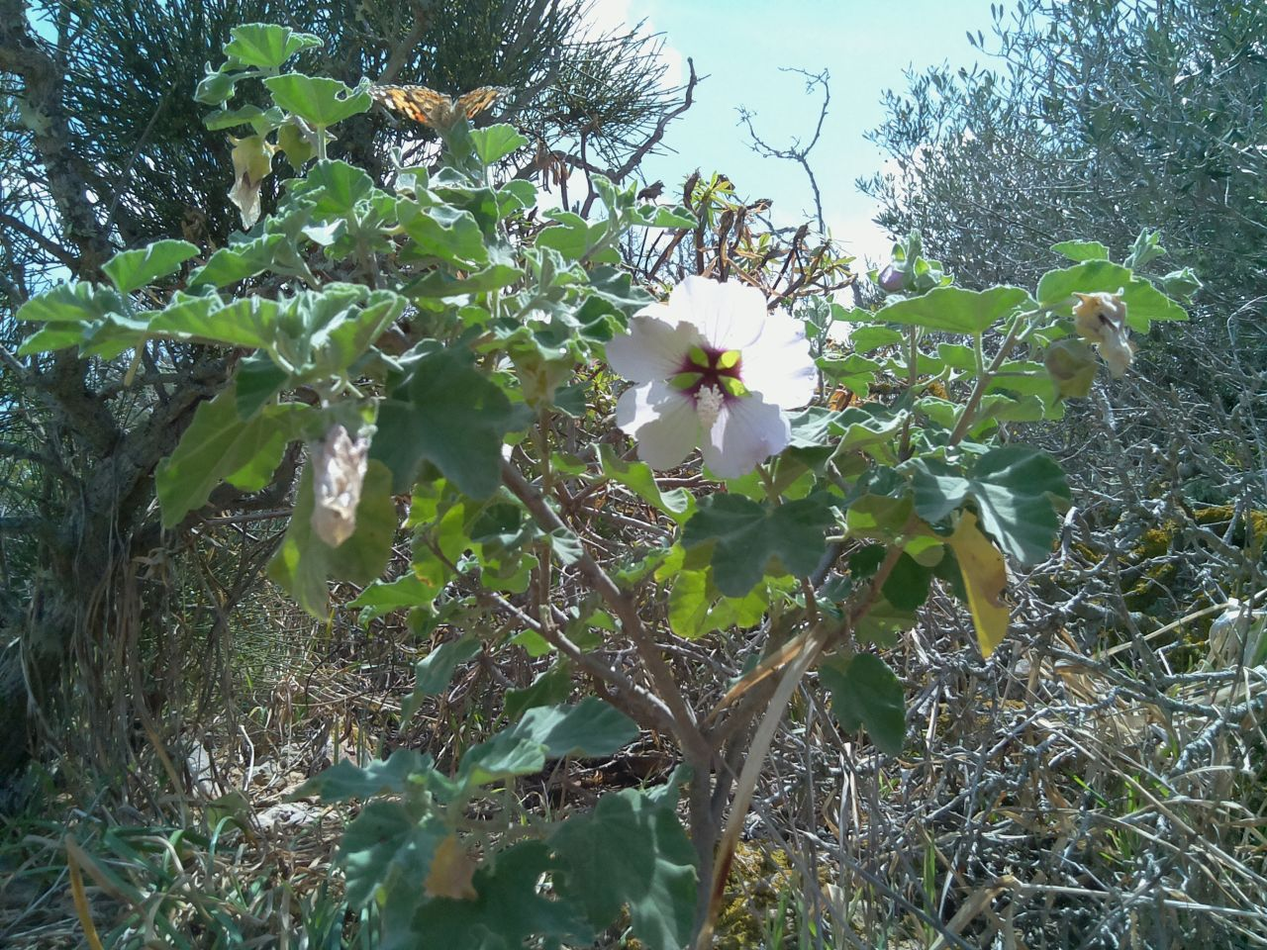Vanessa cardui: (364, 64, 525, 133)
